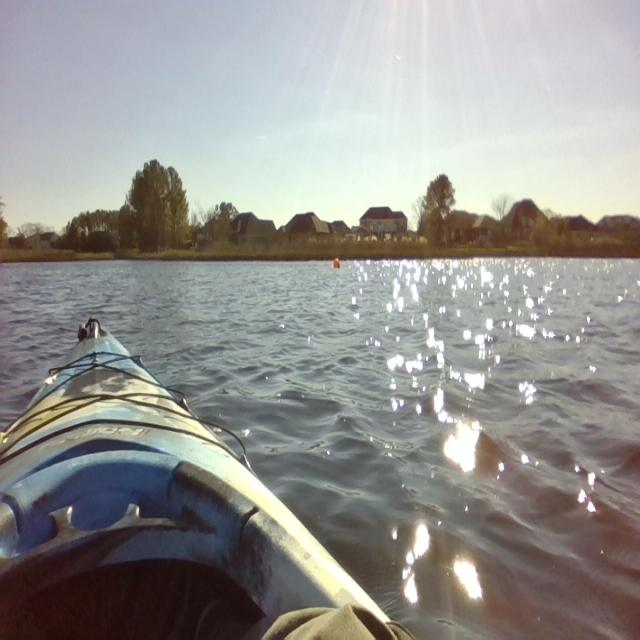Buoy: (331, 252, 344, 274)
